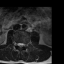CCS_normal: (19, 40, 22, 49)
LFS_normal: (24, 41, 26, 48)
LLS_normal: (22, 41, 24, 48)
RFS_normal: (15, 40, 17, 47)
RLS_normal: (17, 40, 19, 47)
